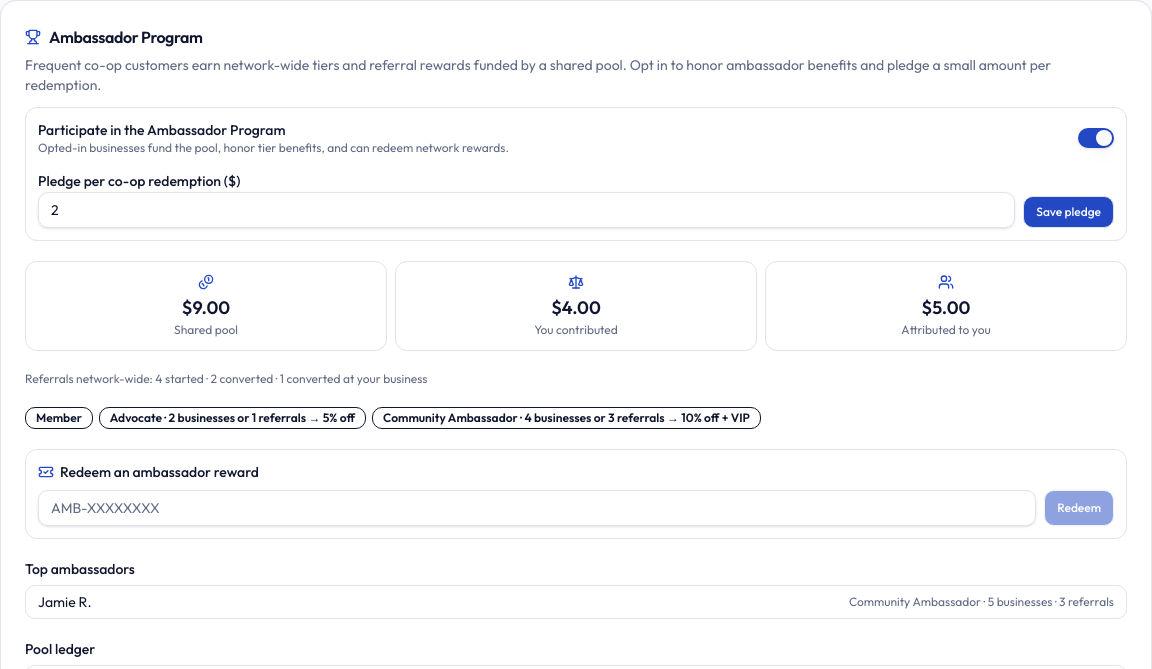
Test: AmbassadorProgramSection › submits a reward code and surfaces the redemption outcome
The width and height of the screenshot is (1152, 669).
Step 1. Type "AMB-TEST1234" into the field with test id "input-ambassador-reward-code" → [537, 508], box [38,490,1036,526]
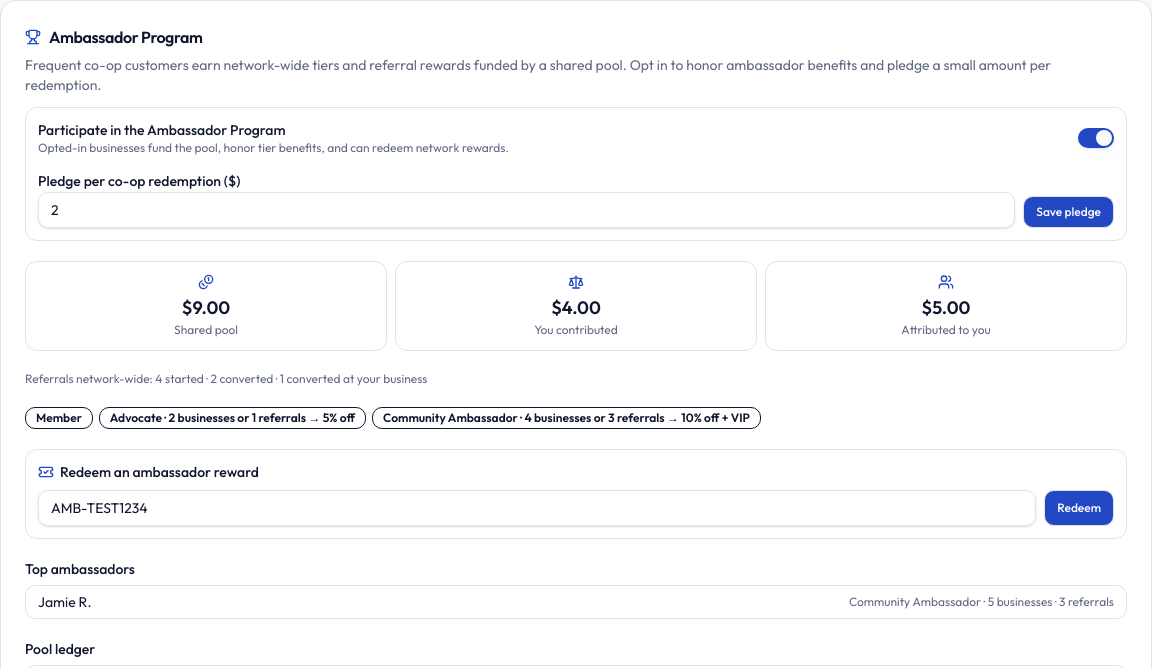
Step 2. Click the button with test id "button-redeem-ambassador-reward" → [1079, 508], box [1044,490,1114,526]
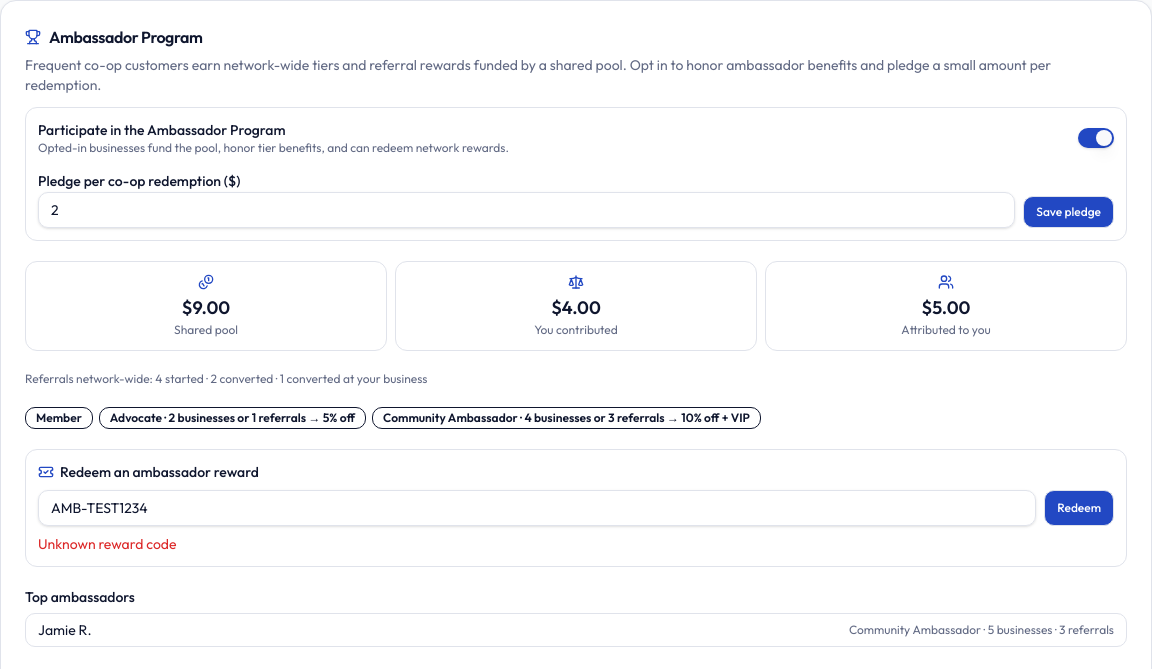
Check: the text with test id "text-ambassador-redeem-error" reads "Unknown reward code", box [38,535,176,553]
